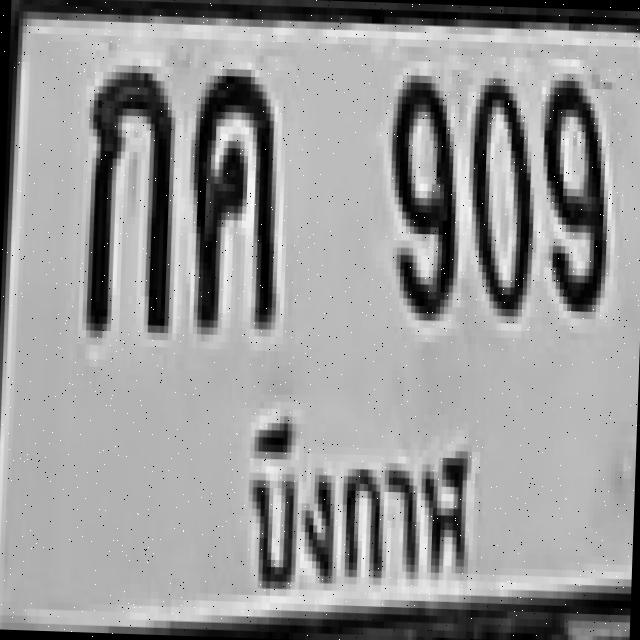0: (454, 57, 541, 356)
10GorGai: (60, 31, 212, 378)
13KhorKhwai: (175, 46, 296, 362)
9: (367, 35, 470, 345), (530, 62, 620, 356)
BuengKan: (210, 391, 470, 611)
